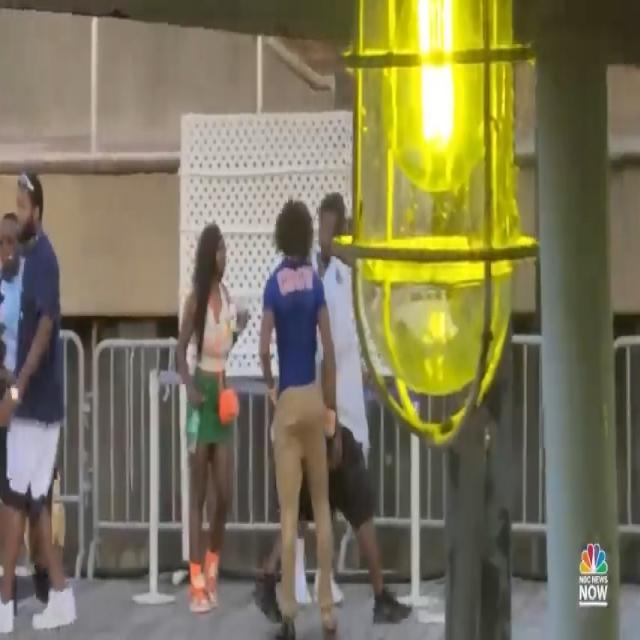non-fight: (174, 182, 412, 640), (0, 148, 83, 640)
